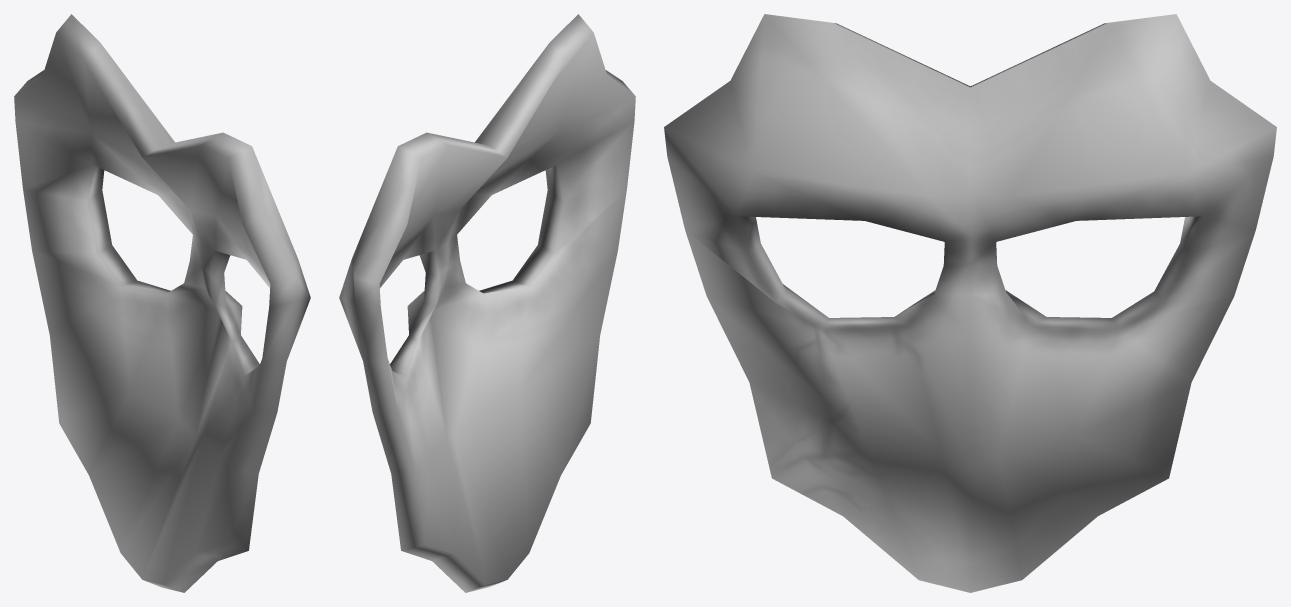
The model's file is AncientMask.fbx.
3 renders of one model, left to right at view 1: azimuth 30°, elevation 25°; view 2: azimuth 150°, elevation 25°; view 3: azimuth 270°, elevation 25°, orthographic. The views are drawn at different scales.
Parts seen in each view (by area): view 1: Cube; view 2: Cube; view 3: Cube.
Part boxes in pixels (x1,y1,x2,y2): Cube: (14,14,310,592); Cube: (339,14,635,592); Cube: (664,14,1276,592).
Bounding box in the file's own units: 34.42 × 167 × 160.
